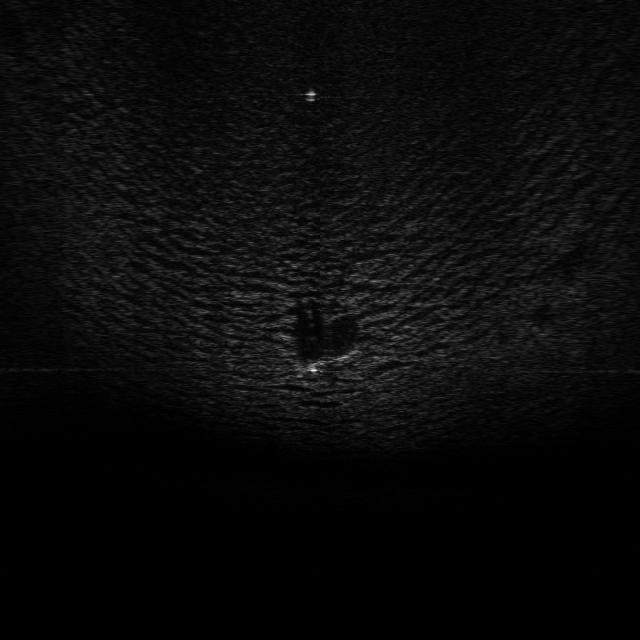plane: (287, 344, 364, 381)
